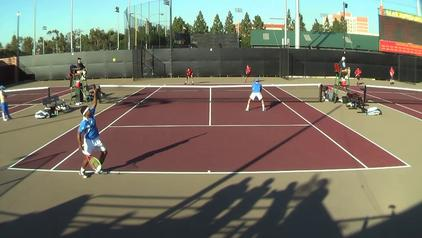sit: (78, 112, 107, 168)
walk: (78, 112, 107, 168), (246, 80, 265, 110)
